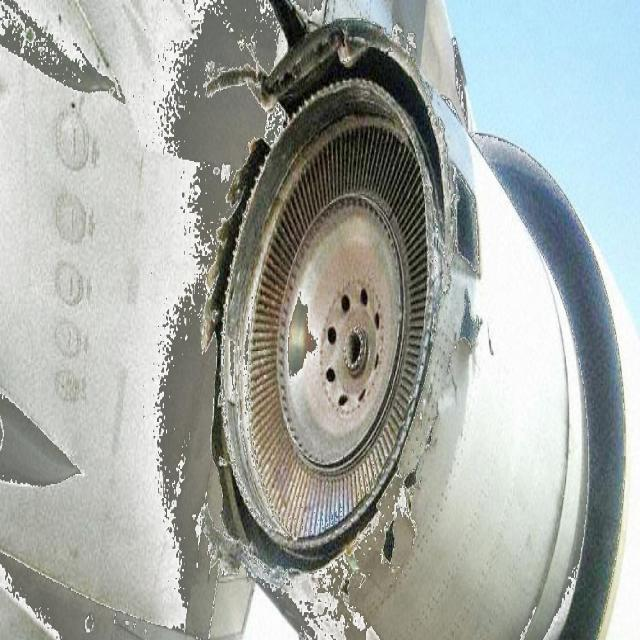crack: (338, 278, 491, 594)
